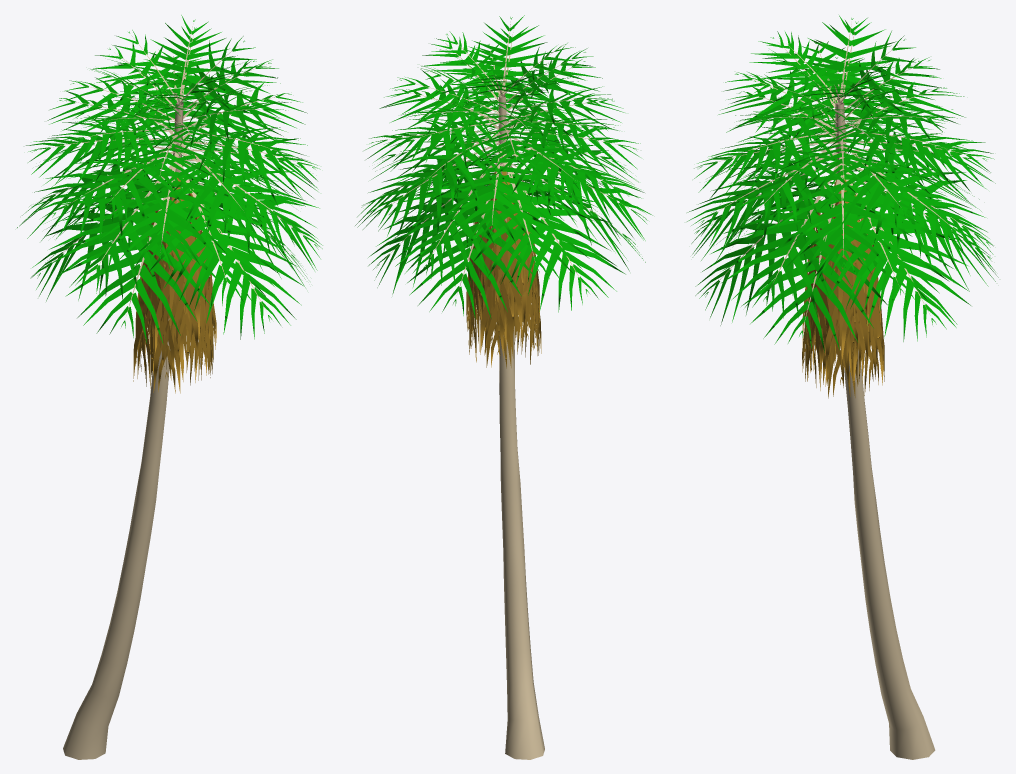
Rendered from NewTree4.FBX.
The picture shows the model from 3 angles, left to right: view 1: azimuth 30°, elevation 25°; view 2: azimuth 150°, elevation 25°; view 3: azimuth 270°, elevation 25°; orthographic projection. The views are drawn at different scales.
Visible parts, largest first — view 1: Foliage001; view 2: Foliage001; view 3: Foliage001.
Boxes of the visible parts, <box> form: Foliage001: <box>17,15,322,759</box>; Foliage001: <box>355,15,652,759</box>; Foliage001: <box>687,15,998,759</box>.
Size of the model in its own units: 8.04 by 20.17 by 7.85.
